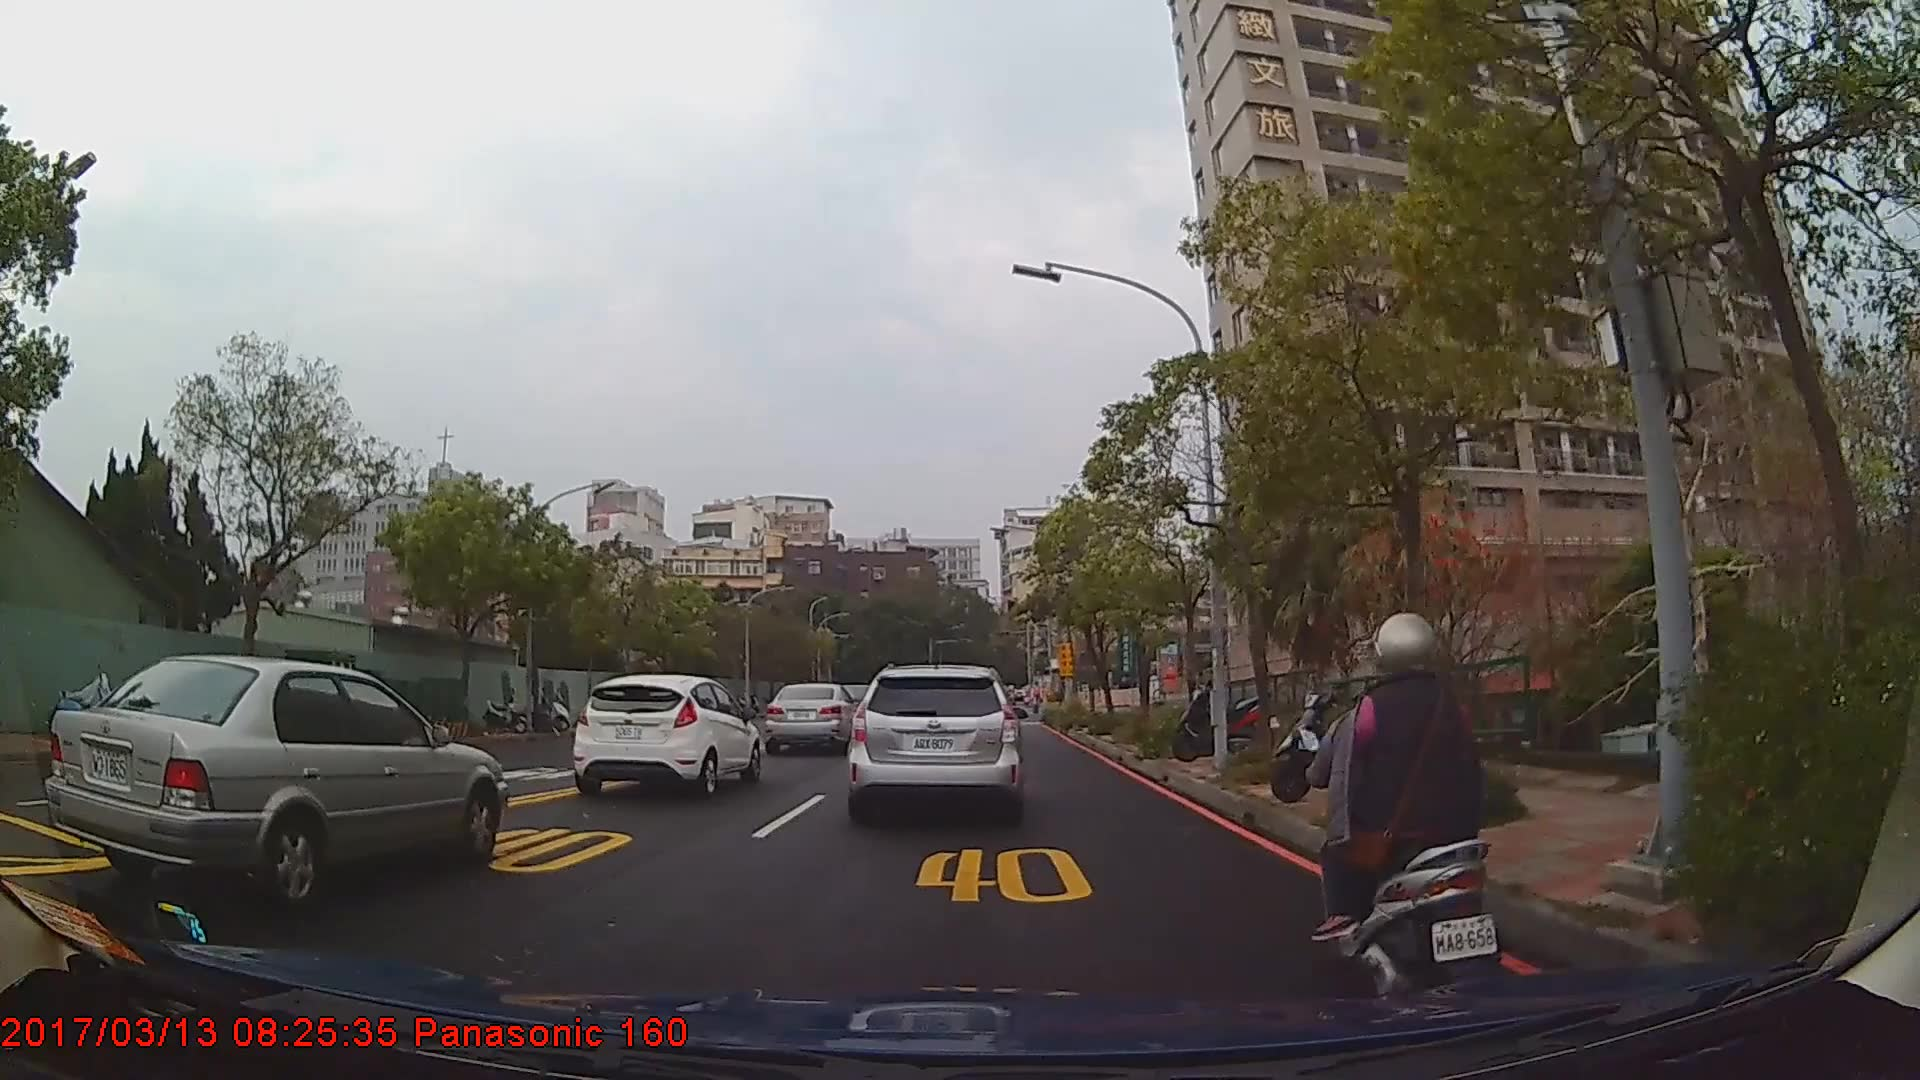rider: (1302, 609, 1495, 1010)
vehicle: (42, 654, 509, 907), (844, 661, 1022, 821), (570, 673, 761, 798), (766, 682, 862, 753)
